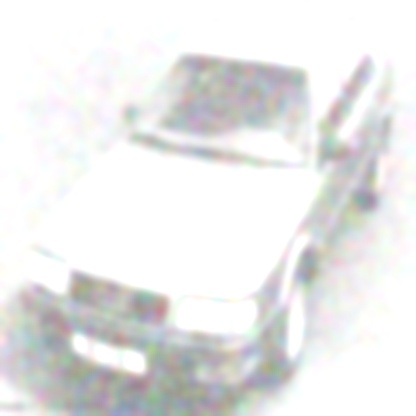Vehicle: (19, 13, 399, 408)
